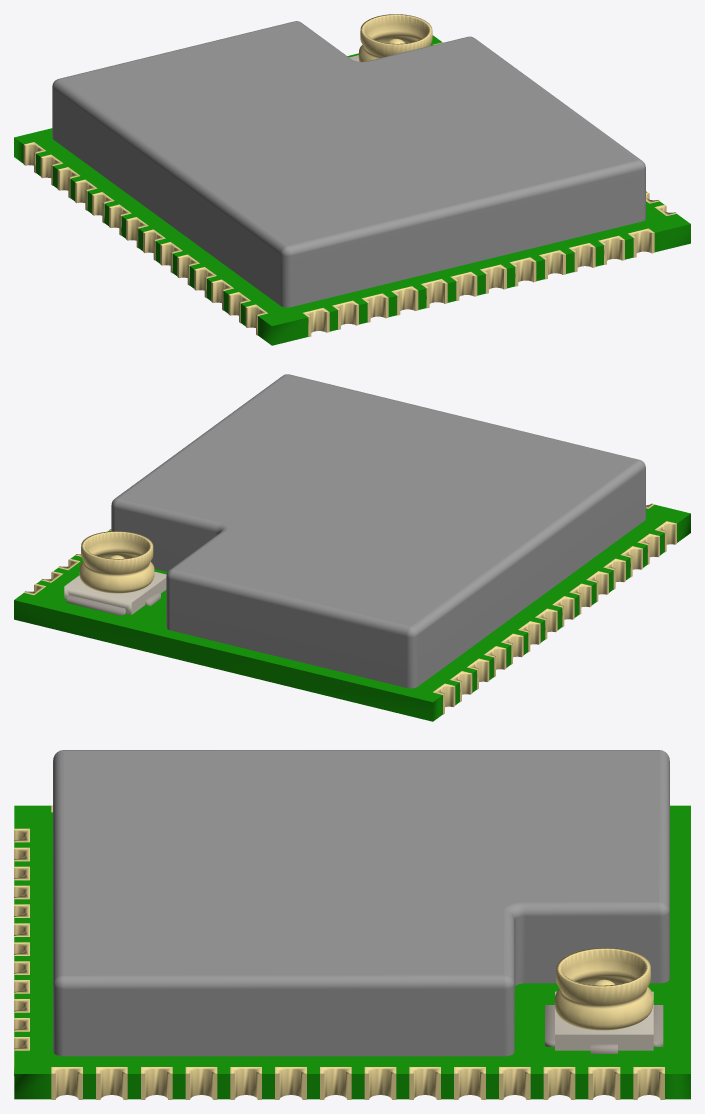
3 renders of one model, top to bottom at view 1: azimuth 30°, elevation 25°; view 2: azimuth 150°, elevation 25°; view 3: azimuth 270°, elevation 25°, orthographic. The views are drawn at different scales.
Parts seen in each view (by area): view 1: =>[0:1:1:3]; view 2: =>[0:1:1:3]; view 3: =>[0:1:1:3].
Boxes of the visible parts, x1,y1,x2,y2 form: =>[0:1:1:3]: (14,14,690,345); =>[0:1:1:3]: (14,374,690,721); =>[0:1:1:3]: (14,750,690,1099).
Bounding box in the file's own units: 0.018 × 0.00321 × 0.0192.
